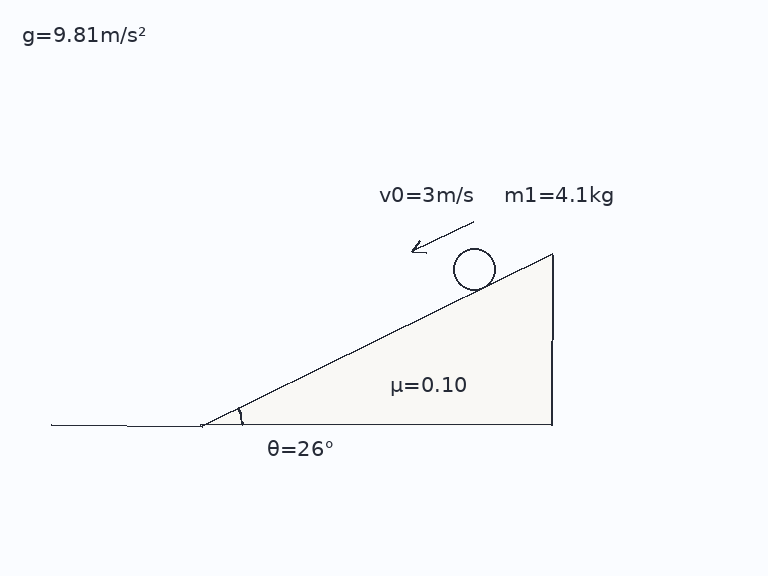ball: (451, 246, 497, 292)
ramp: (200, 252, 554, 427)
